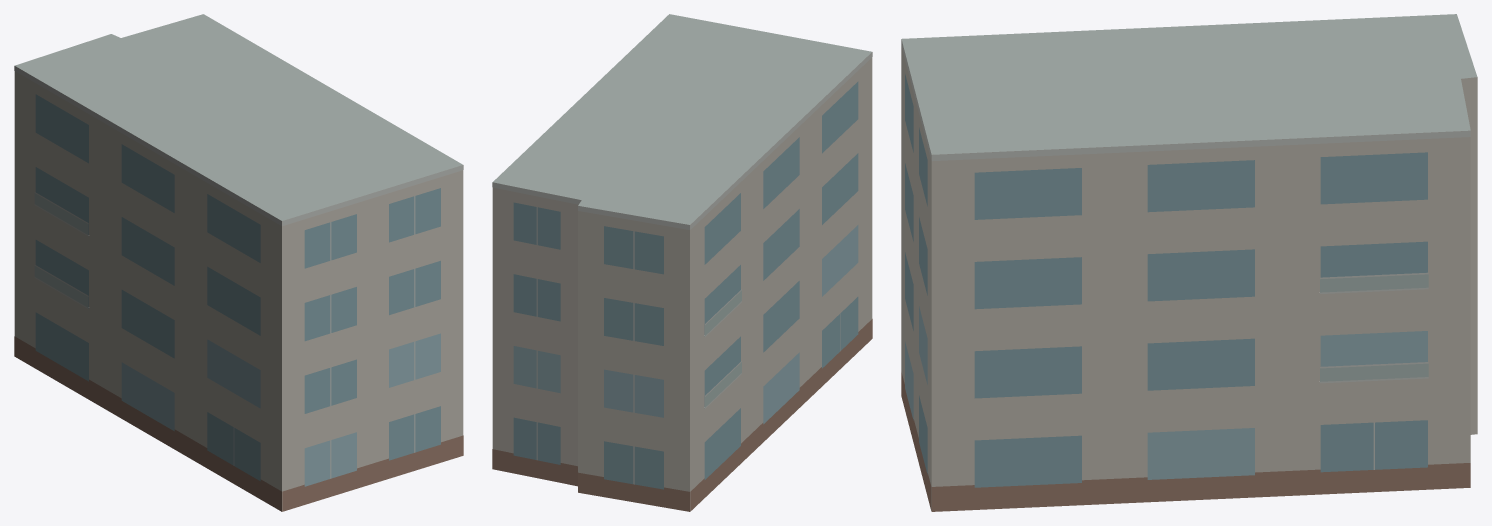
File: survey-upis-32743570.glb
3 views of the same model, side by side, from view 1: azimuth 30°, elevation 25°; view 2: azimuth 150°, elevation 25°; view 3: azimuth 270°, elevation 25° (orthographic). The views are drawn at different scales.
Visible parts, largest first — view 1: survey-upis-32743570.tmp; view 2: survey-upis-32743570.tmp; view 3: survey-upis-32743570.tmp.
Boxes of the visible parts, x1,y1,x2,y2 form: survey-upis-32743570.tmp: (14, 14, 463, 511); survey-upis-32743570.tmp: (492, 14, 872, 511); survey-upis-32743570.tmp: (901, 14, 1477, 511).
Bounding box in the file's own units: 11.51 × 13.6 × 19.9.
